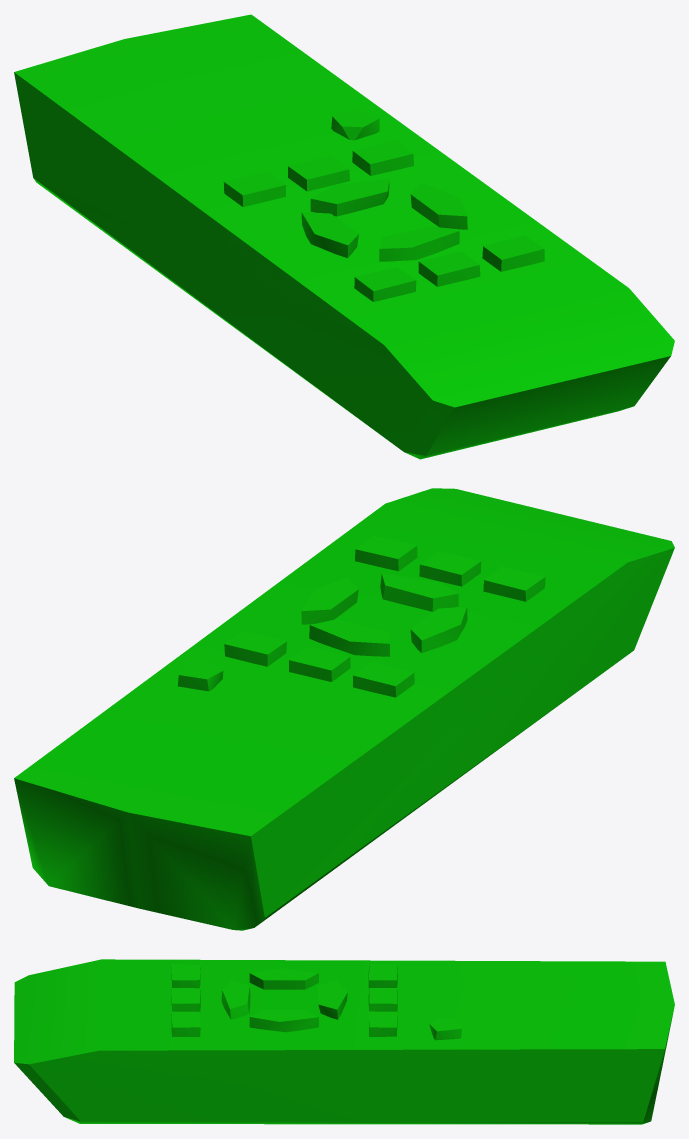
Rendered from UCX_AirCon_RemoteController.fbx.
3 views of the same model, one above another, from view 1: azimuth 30°, elevation 25°; view 2: azimuth 150°, elevation 25°; view 3: azimuth 270°, elevation 25° (orthographic). The views are drawn at different scales.
Visible parts, largest first — view 1: UCX_AirCon_RemoteController; view 2: UCX_AirCon_RemoteController; view 3: UCX_AirCon_RemoteController.
Boxes of the visible parts, <box> form: UCX_AirCon_RemoteController: <box>14,14,674,459</box>; UCX_AirCon_RemoteController: <box>14,488,674,930</box>; UCX_AirCon_RemoteController: <box>14,959,674,1124</box>.
Bounding box in the file's own units: 0.045 × 0.022 × 0.1398.
